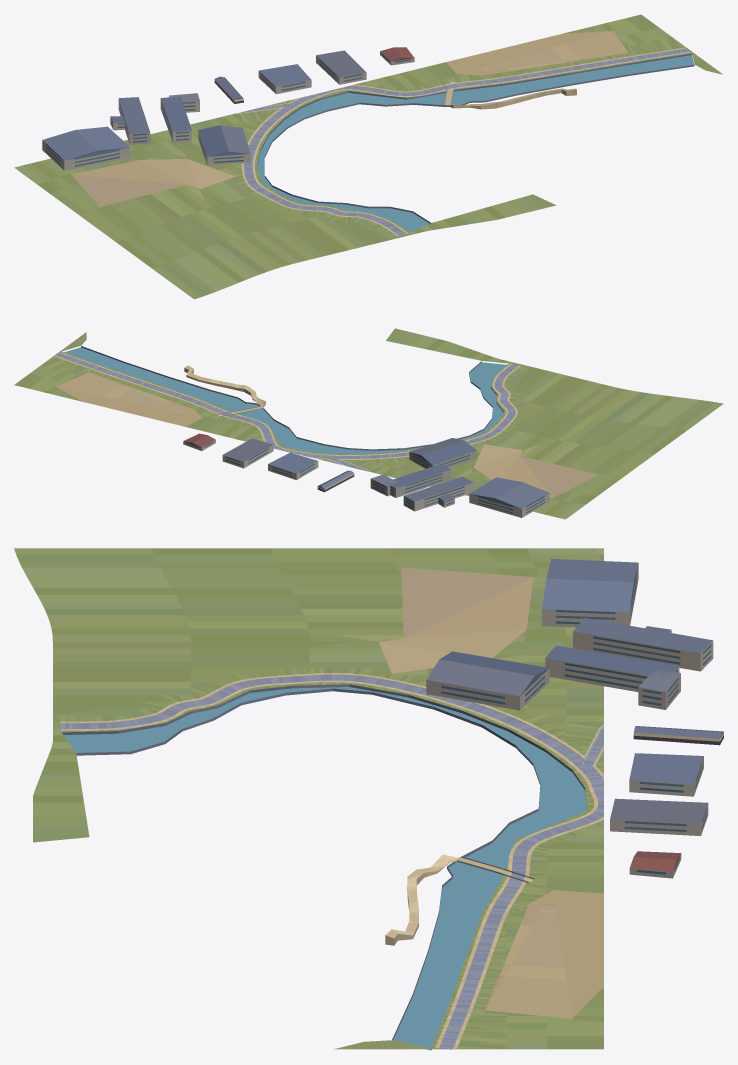
The model's file is ART_CastleApproach.lod.glb.
3 renders of one model, top to bottom at view 1: azimuth 30°, elevation 25°; view 2: azimuth 150°, elevation 25°; view 3: azimuth 270°, elevation 25°, orthographic. The views are drawn at different scales.
Visible parts, largest first — view 1: ART_CastleApproach; view 2: ART_CastleApproach; view 3: ART_CastleApproach.
Part boxes in pixels (bbox=[...]): ART_CastleApproach: bbox=[14, 14, 723, 299]; ART_CastleApproach: bbox=[14, 328, 723, 519]; ART_CastleApproach: bbox=[14, 548, 723, 1050].
Bounding box in the file's own units: 600 × 14 × 359.
